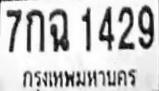1: (80, 6, 90, 52)
2: (117, 6, 134, 49)
4: (98, 5, 113, 50)
7: (5, 8, 22, 52)
9: (137, 4, 153, 48)
A01: (25, 8, 44, 52)
A09: (48, 8, 69, 51)
BKK: (18, 66, 140, 91)
